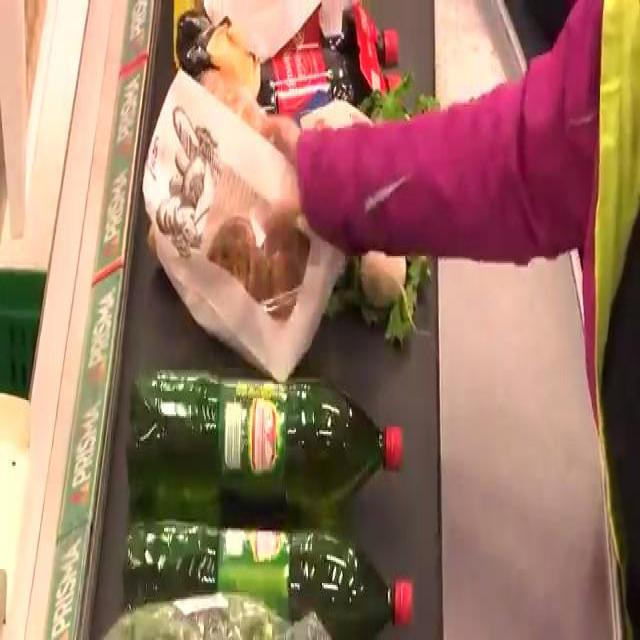beverage: (123, 366, 411, 526), (120, 524, 409, 632), (233, 5, 409, 126)
food-box: (160, 71, 338, 368)
